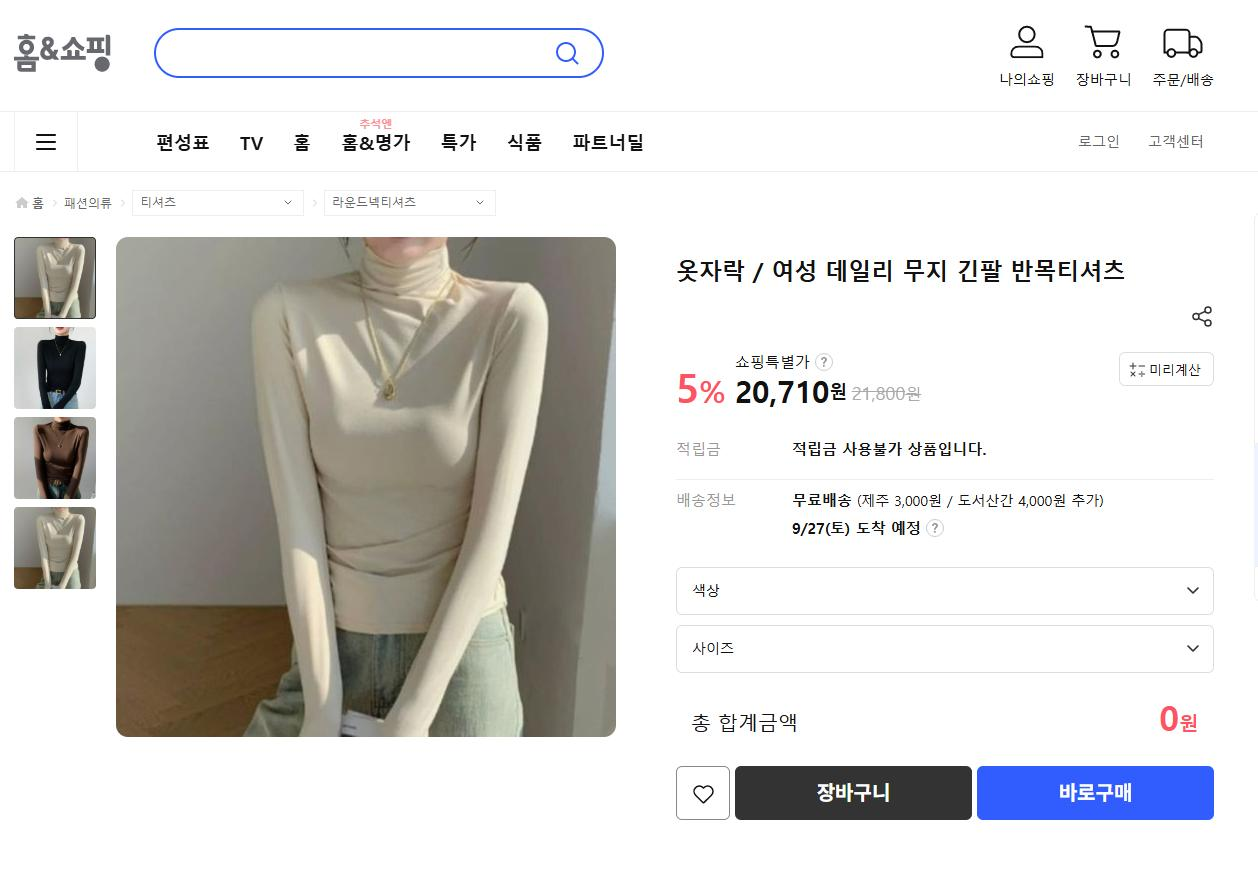button: (980, 765, 1221, 820), (735, 766, 977, 820), (1150, 19, 1225, 104), (994, 20, 1069, 98), (1075, 14, 1138, 104), (341, 114, 430, 164), (146, 116, 224, 169), (1122, 352, 1218, 388), (563, 128, 664, 162), (671, 768, 730, 821), (285, 122, 341, 165), (230, 116, 278, 164), (428, 120, 492, 152), (1144, 126, 1211, 154), (1075, 133, 1138, 159), (496, 128, 550, 145), (1194, 301, 1221, 335), (925, 515, 942, 534)
checkbox: (673, 568, 1214, 616), (674, 629, 1216, 669), (320, 185, 492, 219), (134, 190, 308, 218), (18, 113, 85, 170)
input_field: (154, 31, 603, 81)
